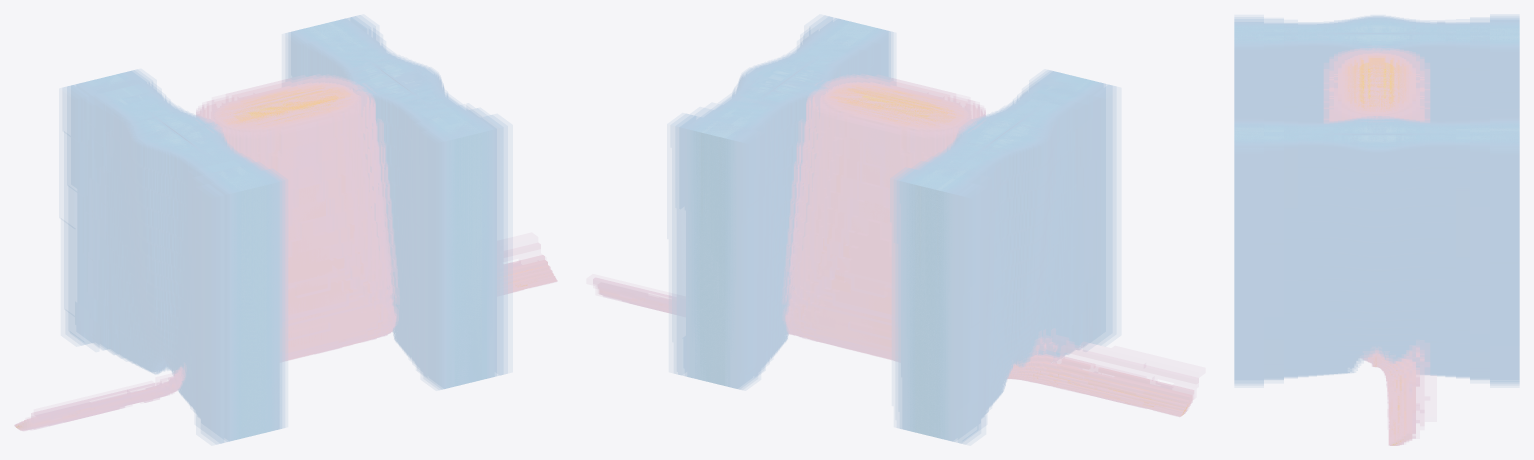
The model's file is time-dilation.glb.
3 renders of one model, left to right at view 1: azimuth 30°, elevation 25°; view 2: azimuth 150°, elevation 25°; view 3: azimuth 270°, elevation 25°, orthographic. The views are drawn at different scales.
Visible parts, largest first — view 1: B02_lt_0p2, B04_lt_0p4, B10_lt_1, B03_lt_0p3, F01_ge_1e-05, B09_lt_0p9; view 2: B02_lt_0p2, B03_lt_0p3, B10_lt_1, B04_lt_0p4, F01_ge_1e-05, B01_lt_0p15; view 3: B03_lt_0p3, B02_lt_0p2, B01_lt_0p15.
Boxes of the visible parts, x1,y1,x2,y2 form: B02_lt_0p2: [108, 25, 481, 437]; B04_lt_0p4: [114, 24, 486, 438]; B10_lt_1: [89, 36, 444, 425]; B03_lt_0p3: [89, 25, 461, 429]; F01_ge_1e-05: [34, 103, 394, 428]; B09_lt_0p9: [89, 38, 443, 390]; B02_lt_0p2: [699, 22, 1090, 436]; B03_lt_0p3: [696, 21, 1088, 431]; B10_lt_1: [733, 36, 1092, 424]; B04_lt_0p4: [694, 42, 1067, 438]; F01_ge_1e-05: [597, 102, 985, 336]; B01_lt_0p15: [701, 70, 1024, 266]; B03_lt_0p3: [1235, 23, 1518, 142]; B02_lt_0p2: [1235, 25, 1518, 142]; B01_lt_0p15: [1357, 26, 1518, 141].
Bounding box in the file's own units: 3 × 1.28 × 1.41.
